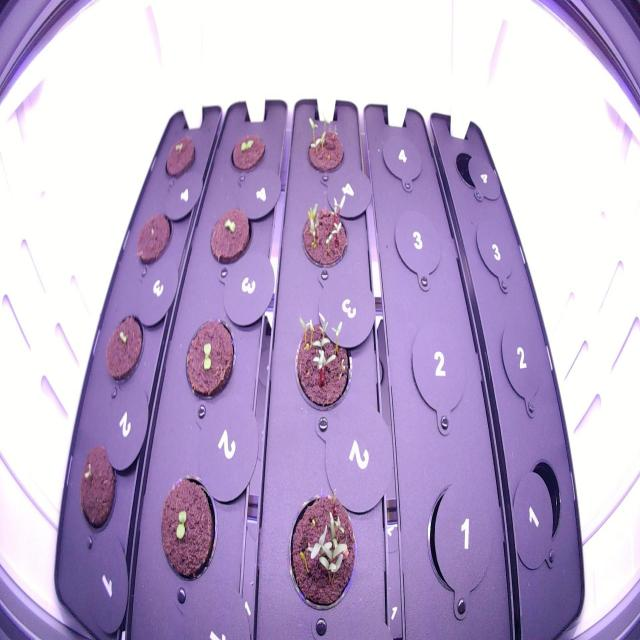empty_pod: (424, 474, 496, 600), (406, 320, 468, 430), (515, 449, 574, 559), (496, 319, 547, 413), (392, 207, 444, 284), (471, 214, 520, 290), (380, 128, 424, 189), (451, 143, 492, 196)
germination: (279, 482, 362, 616), (287, 303, 358, 428), (150, 467, 221, 590), (177, 313, 239, 407), (296, 185, 352, 278), (75, 438, 118, 544), (297, 103, 349, 185), (98, 308, 148, 392), (204, 202, 254, 274), (225, 128, 269, 178), (160, 129, 200, 183)
pod: (130, 206, 174, 276)
